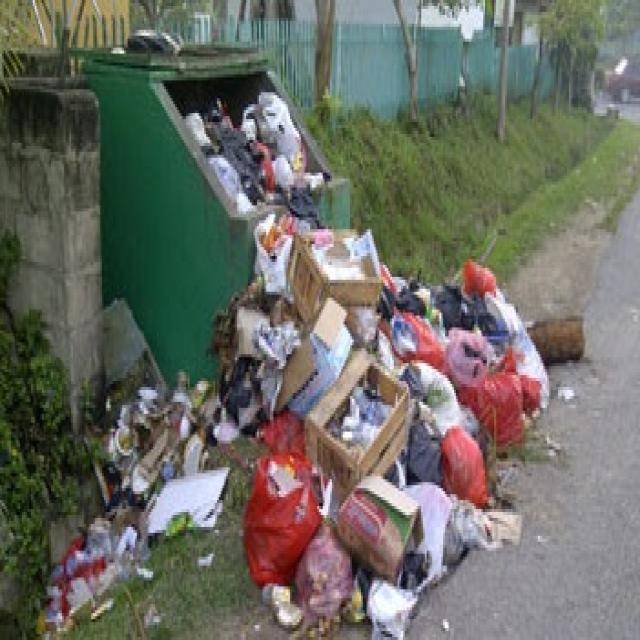sampah-detection: (208, 208, 588, 640), (95, 376, 232, 537), (180, 80, 328, 210), (36, 520, 160, 640)
